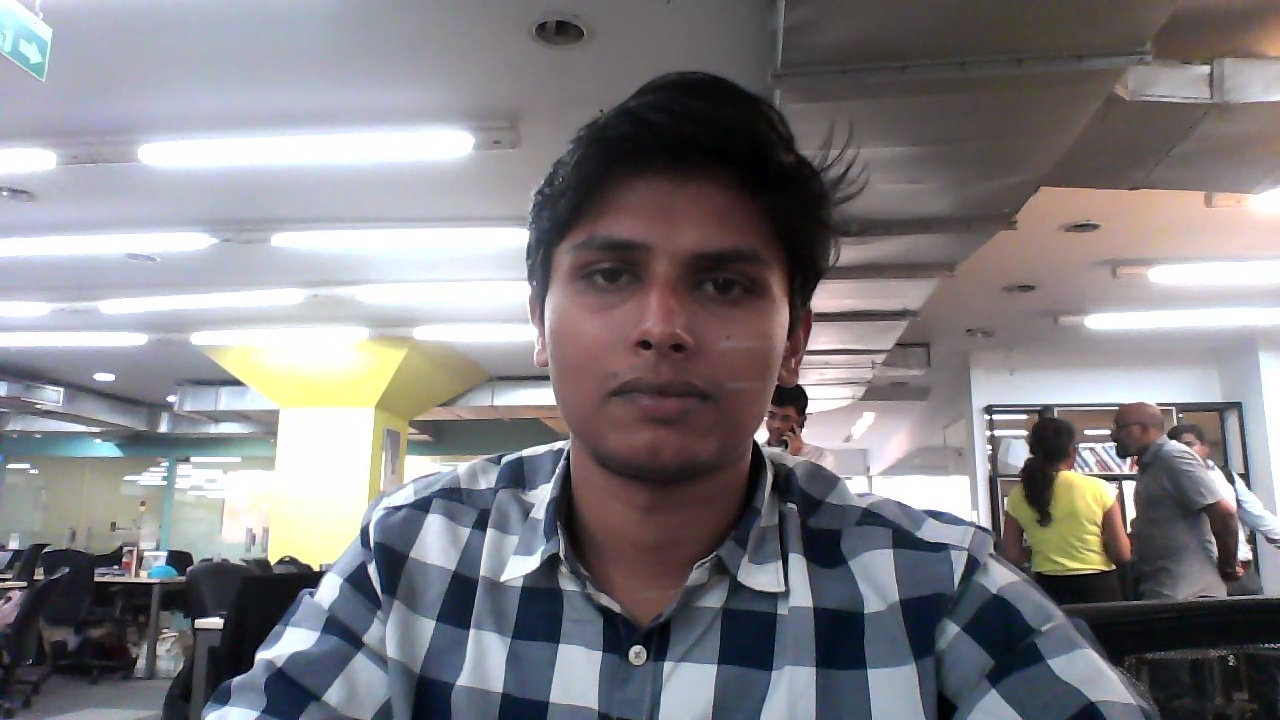open: (528, 71, 822, 477)
